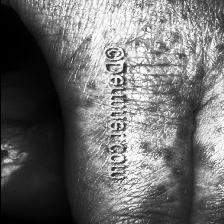Toxin: (137, 122, 191, 202)
